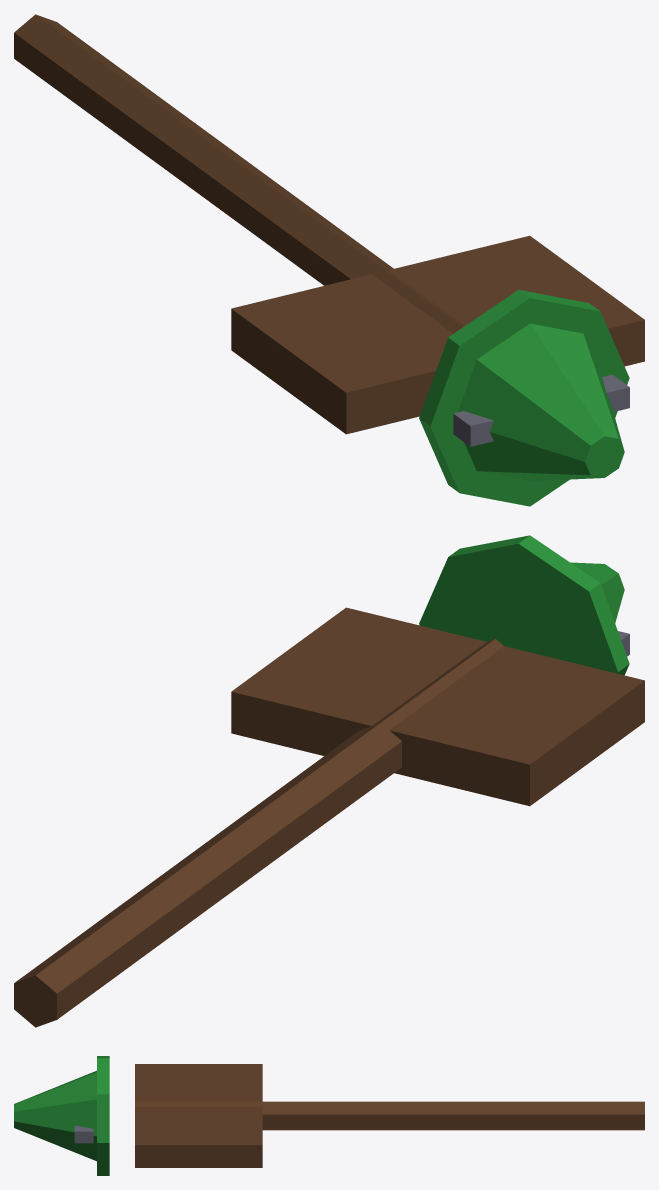
File: leprechaun_stand.obj
3 views of the same model, one above another, from view 1: azimuth 30°, elevation 25°; view 2: azimuth 150°, elevation 25°; view 3: azimuth 270°, elevation 25° (orthographic). The views are drawn at different scales.
Parts seen in each view (by area): view 1: leprechaun_stand; view 2: leprechaun_stand; view 3: leprechaun_stand.
Boxes of the visible parts, x1,y1,x2,y2 form: leprechaun_stand: (14,14,644,506); leprechaun_stand: (14,535,644,1027); leprechaun_stand: (14,1056,644,1175).
Bounding box in the file's own units: 0.3 × 0.2 × 0.99.
